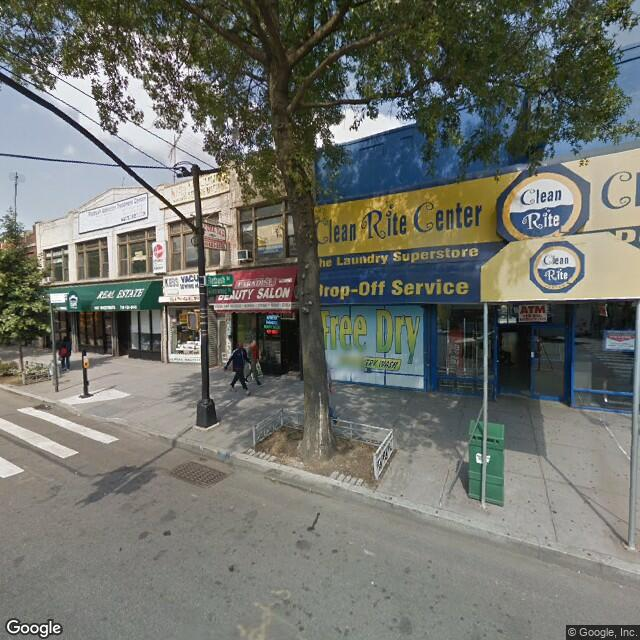litter: (369, 579, 377, 585), (75, 413, 83, 416)
